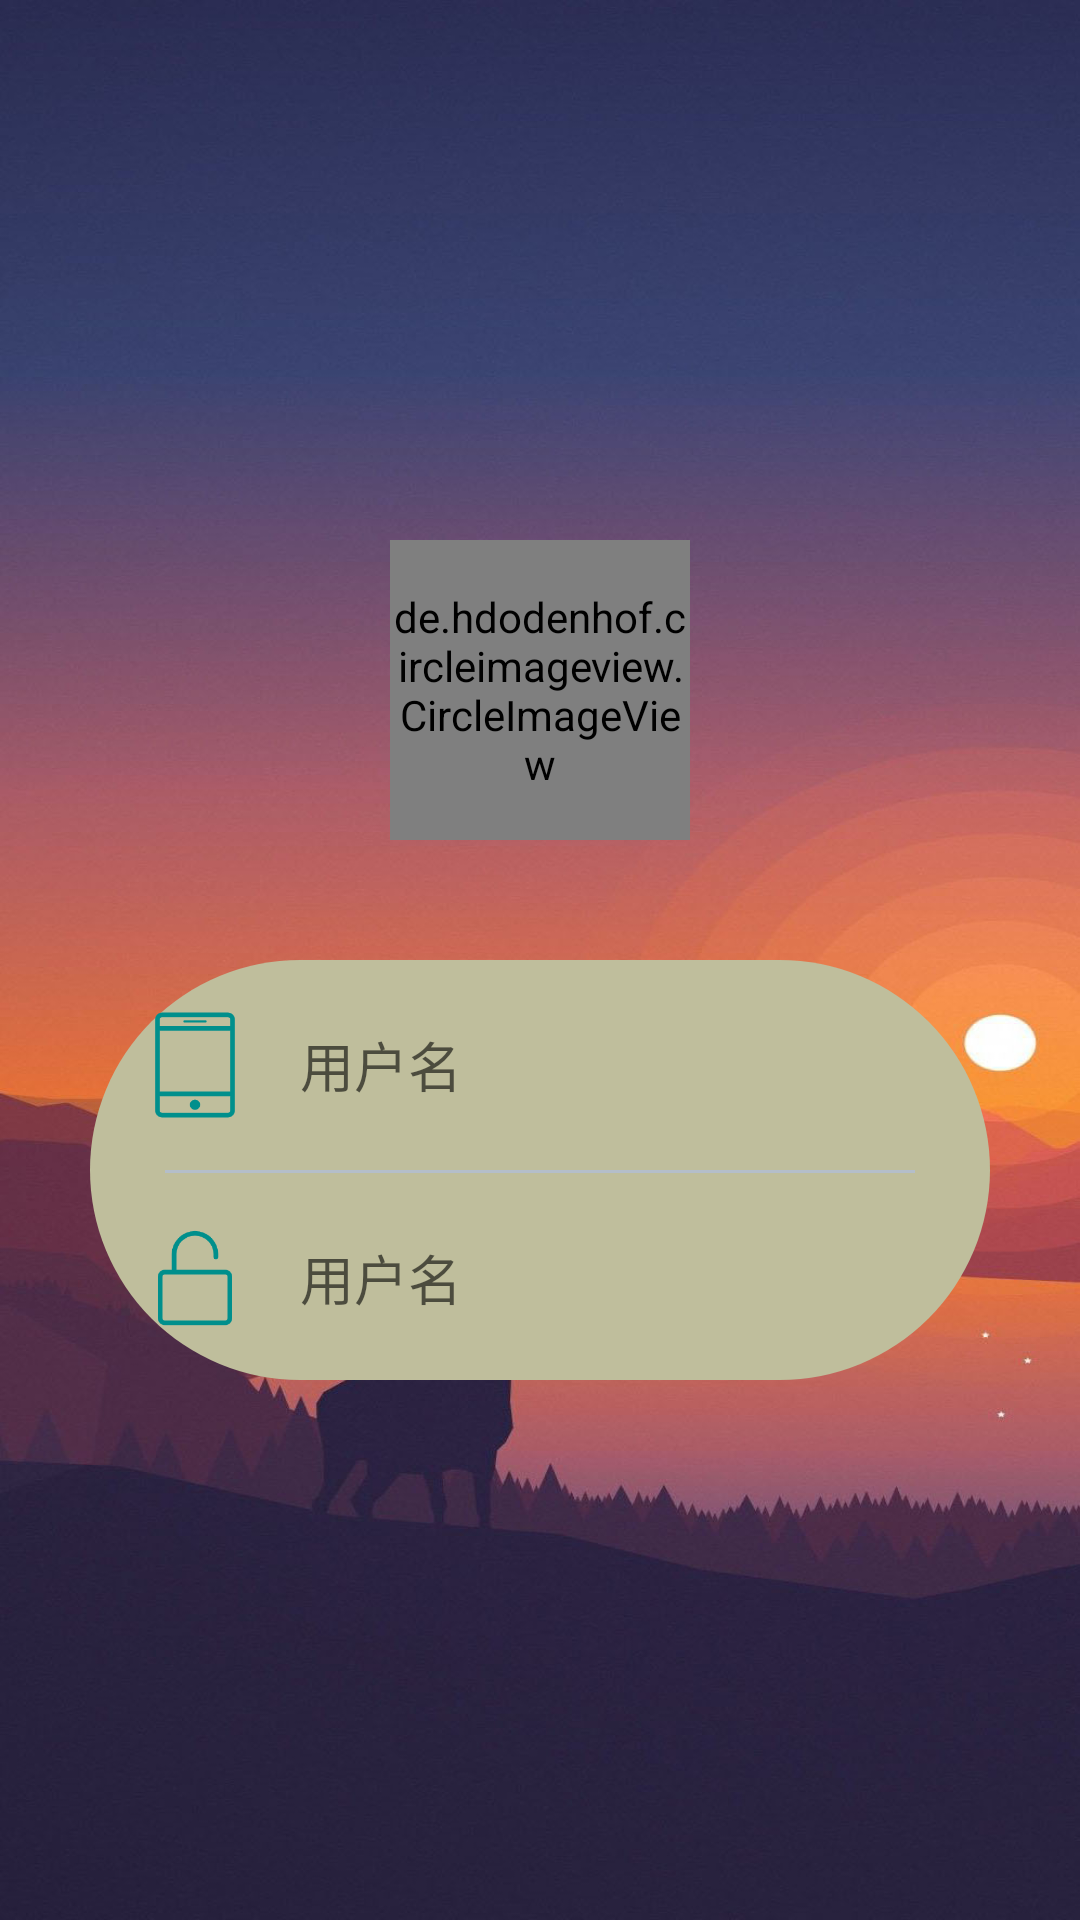

Screen size 1080w x 1920h. Icon name, then its center in pixels as (x=x, y=y):
password: (x=195, y=1278)
